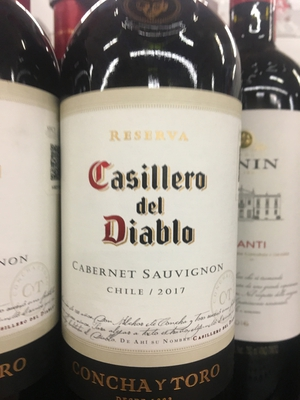casillero del diablo cabernet sauvignon: (60, 11, 247, 400)
